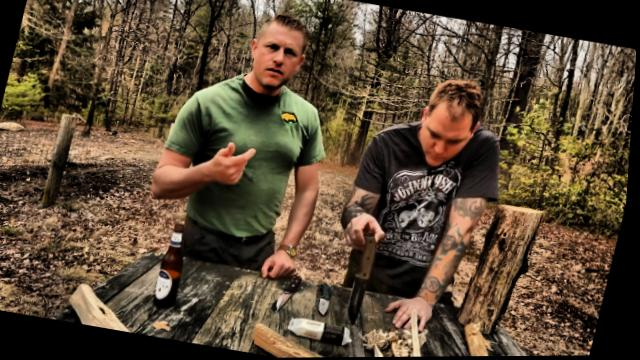knife: (328, 218, 396, 327)
